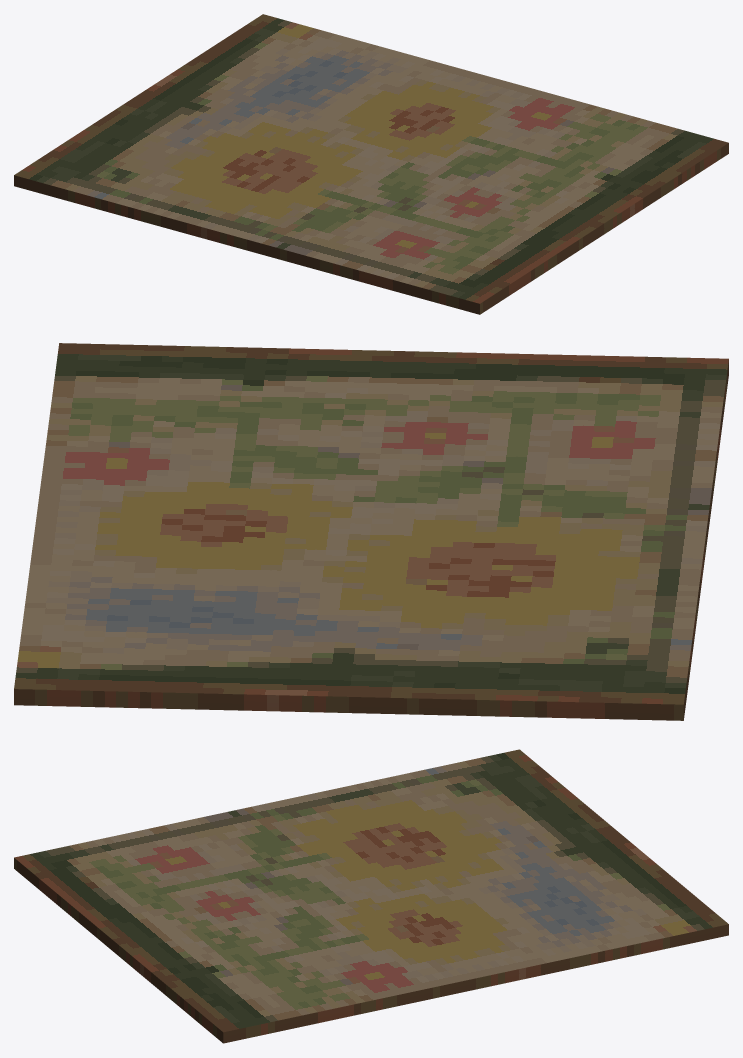
File: prop_drawing_fallen-2.glb
3 renders of one model, top to bottom at view 1: azimuth 30°, elevation 25°; view 2: azimuth 150°, elevation 25°; view 3: azimuth 270°, elevation 25°, orthographic. The views are drawn at different scales.
Parts seen in each view (by area): view 1: prop_drawing_fallen-2; view 2: prop_drawing_fallen-2; view 3: prop_drawing_fallen-2.
Boxes of the visible parts, <box> form: prop_drawing_fallen-2: <box>14,14,728,314</box>; prop_drawing_fallen-2: <box>14,343,728,720</box>; prop_drawing_fallen-2: <box>14,749,728,1043</box>.
Size of the model in its own units: 0.6498 by 0.012 by 0.6939.
Materials: 1 (1 with a texture image).
